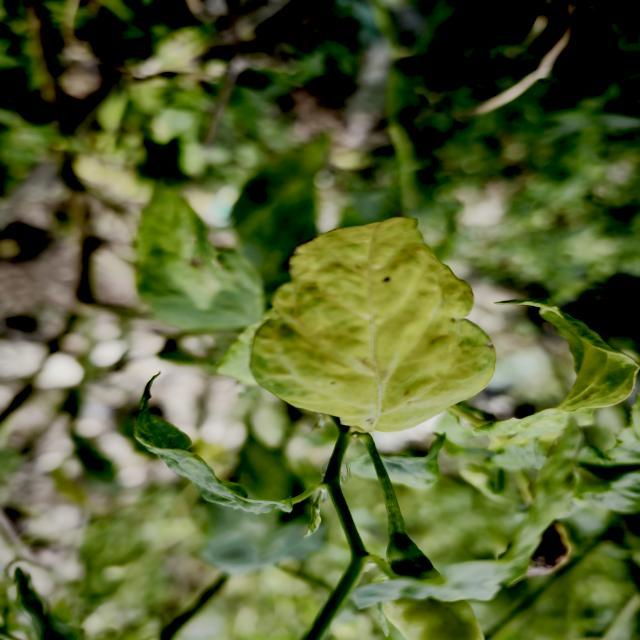Virus Kuning: (248, 216, 496, 434)
